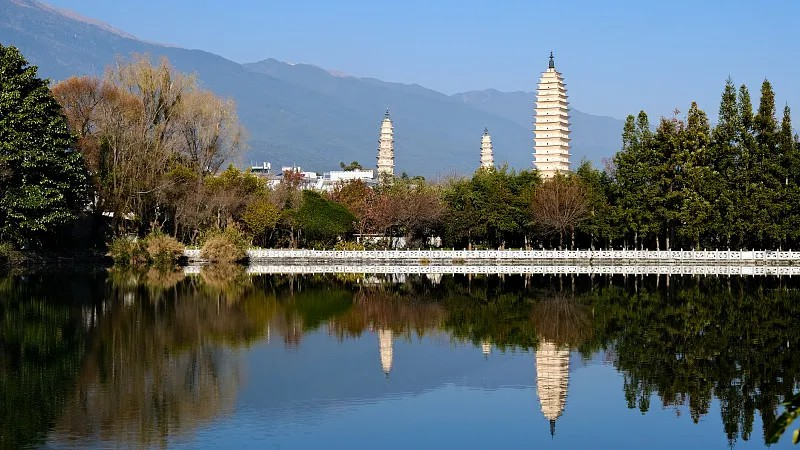ThreePagoda: (531, 51, 571, 182)
